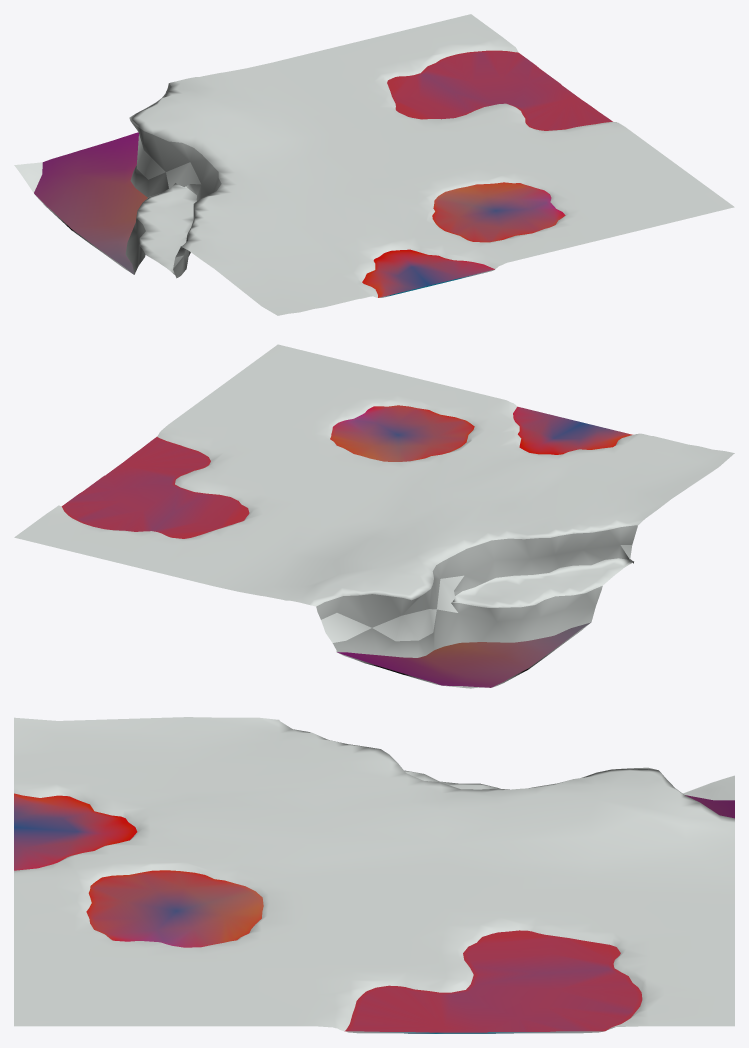
The picture shows the model from 3 angles, top to bottom: view 1: azimuth 30°, elevation 25°; view 2: azimuth 150°, elevation 25°; view 3: azimuth 270°, elevation 25°; orthographic projection. The views are drawn at different scales.
Visible parts, largest first — view 1: G:\FFXIV-MapTools\exports\r2f1\bg\ex1\01_roc_r2\fld\r2f1\bgp (×5); view 2: G:\FFXIV-MapTools\exports\r2f1\bg\ex1\01_roc_r2\fld\r2f1\bgp (×5); view 3: G:\FFXIV-MapTools\exports\r2f1\bg\ex1\01_roc_r2\fld\r2f1\bgp (×3).
Part boxes in pixels (<box>): G:\FFXIV-MapTools\exports\r2f1\bg\ex1\01_roc_r2\fld\r2f1\bgp (×5): <box>14,14,734,315</box>; G:\FFXIV-MapTools\exports\r2f1\bg\ex1\01_roc_r2\fld\r2f1\bgp (×5): <box>14,344,734,688</box>; G:\FFXIV-MapTools\exports\r2f1\bg\ex1\01_roc_r2\fld\r2f1\bgp (×3): <box>14,717,734,1033</box>.
Size of the model in its own units: 128 by 19.88 by 128.
